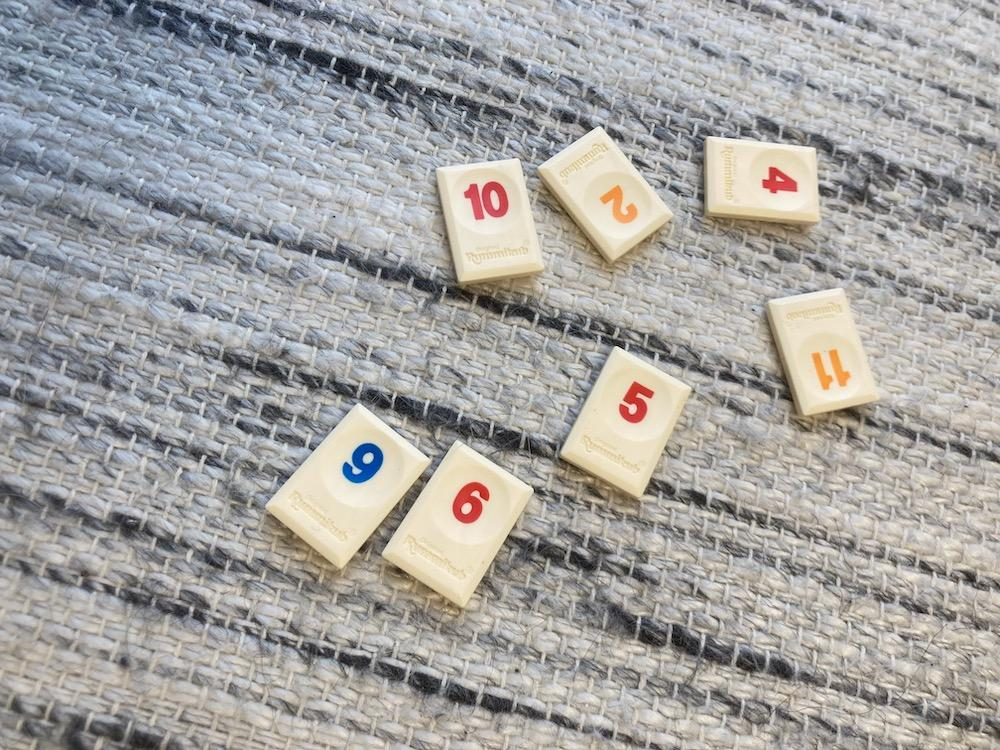blue_9: (266, 404, 430, 568)
orange_11: (768, 289, 879, 414)
orange_2: (537, 127, 672, 262)
red_10: (436, 158, 543, 283)
red_4: (708, 137, 820, 225)
red_5: (561, 348, 691, 498)
red_6: (383, 441, 533, 607)
